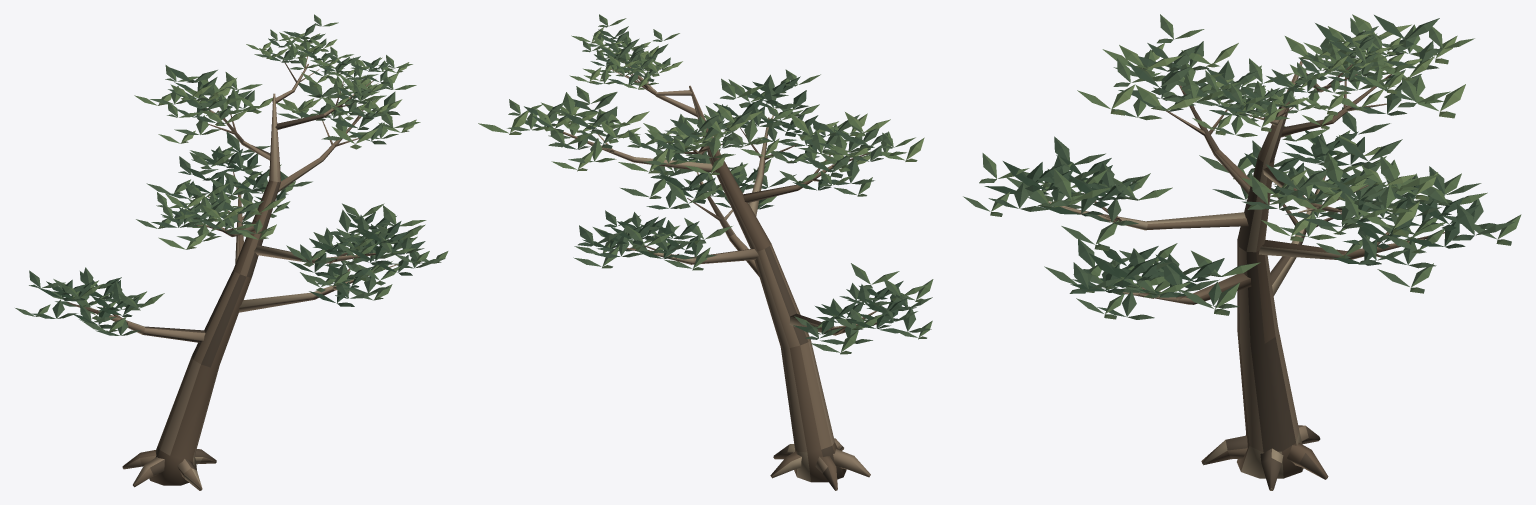
Rendered from coastal-pine-lod.glb.
3 views of the same model, side by side, from view 1: azimuth 30°, elevation 25°; view 2: azimuth 150°, elevation 25°; view 3: azimuth 270°, elevation 25° (orthographic). The views are drawn at different scales.
Parts seen in each view (by area): view 1: Pine Leaf needle sprays.001, Pine Trunk and exposed roots.001, Pine scaffold Branches.001; view 2: Pine Leaf needle sprays.001, Pine Trunk and exposed roots.001, Pine scaffold Branches.001; view 3: Pine Leaf needle sprays.001, Pine Trunk and exposed roots.001, Pine scaffold Branches.001.
Boxes of the visible parts, left/top/right/bottom form: Pine Leaf needle sprays.001: left=15, top=14, right=448, bottom=335; Pine Trunk and exposed roots.001: left=122, top=93, right=280, bottom=490; Pine scaffold Branches.001: left=66, top=56, right=398, bottom=342; Pine Leaf needle sprays.001: left=478, top=14, right=933, bottom=354; Pine Trunk and exposed roots.001: left=689, top=85, right=870, bottom=490; Pine scaffold Branches.001: left=554, top=61, right=876, bottom=335; Pine Leaf needle sprays.001: left=963, top=14, right=1521, bottom=319; Pine Trunk and exposed roots.001: left=1201, top=61, right=1328, bottom=490; Pine scaffold Branches.001: left=1048, top=64, right=1444, bottom=304.
Bounding box in the file's own units: 5.14 × 4.68 × 4.43.
